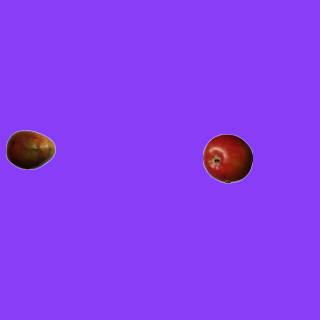Apple Braeburn: (202, 133, 252, 183)
Mango Red: (5, 124, 55, 174)
